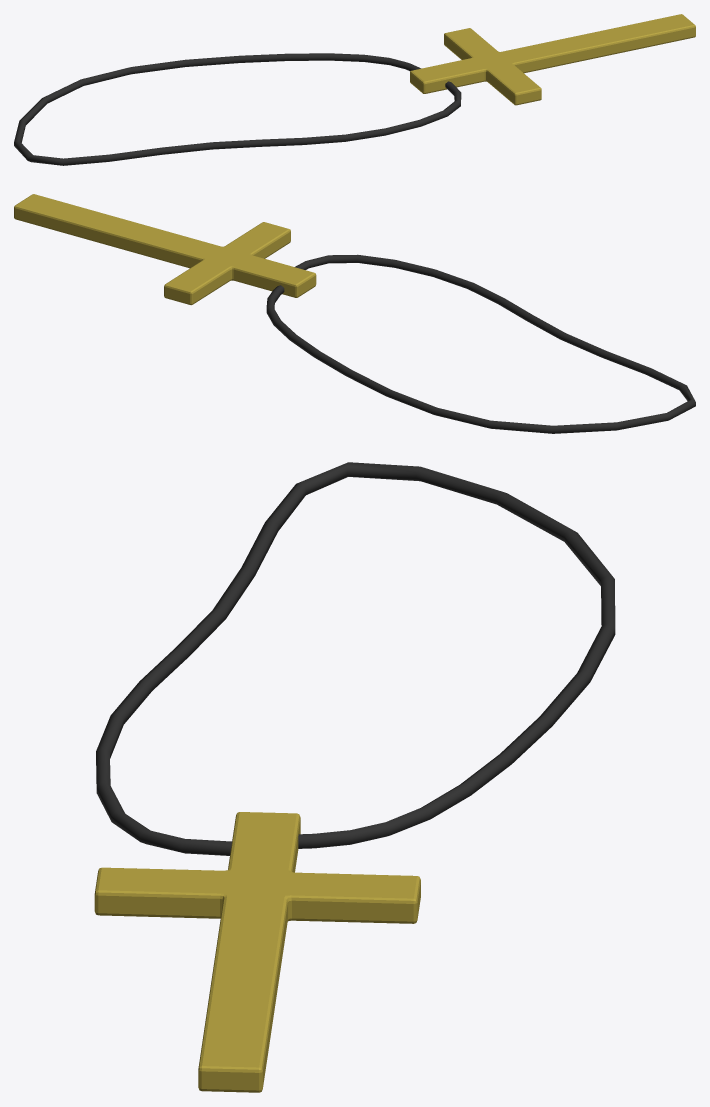
Rendered from Krest.fbx.
3 renders of one model, top to bottom at view 1: azimuth 30°, elevation 25°; view 2: azimuth 150°, elevation 25°; view 3: azimuth 270°, elevation 25°, orthographic. The views are drawn at different scales.
Parts seen in each view (by area): view 1: Krest; view 2: Krest; view 3: Krest.
Part boxes in pixels (x1,y1,x2,y2): Krest: (14, 14, 695, 165); Krest: (14, 194, 695, 433); Krest: (94, 462, 615, 1092).
Bounding box in the file's own units: 22.59 × 0.4305 × 8.05.
